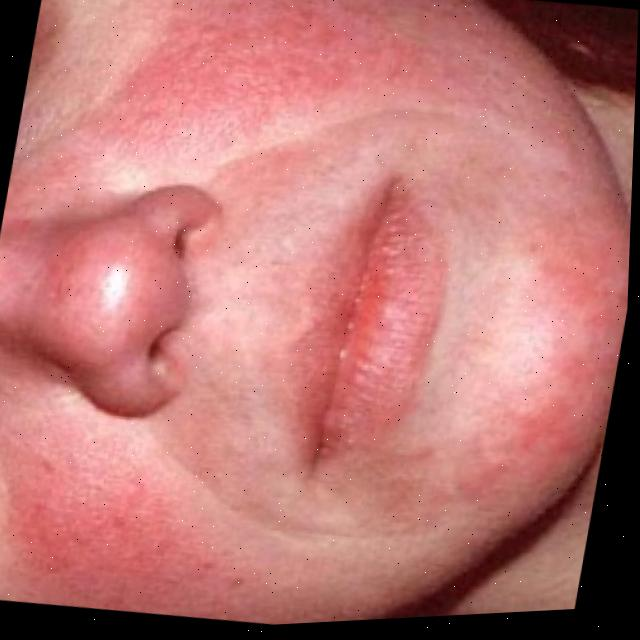Rosacea: (2, 0, 457, 268), (0, 377, 292, 637), (457, 113, 635, 532), (0, 207, 190, 408)
